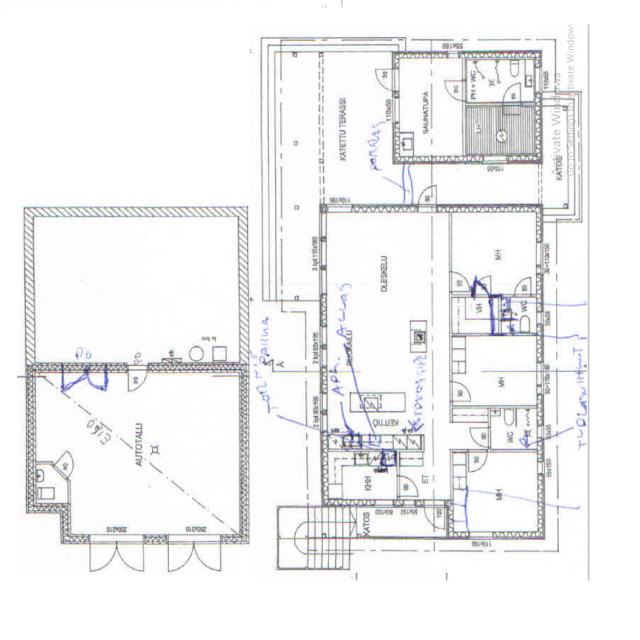door: (25, 222, 246, 370), (371, 66, 402, 94), (420, 502, 448, 530), (446, 378, 474, 405), (395, 472, 421, 500), (124, 365, 149, 394), (442, 77, 468, 103), (466, 424, 492, 449), (465, 448, 489, 475), (416, 182, 440, 208), (447, 270, 471, 295), (512, 276, 536, 298), (501, 81, 523, 104), (292, 530, 310, 554), (56, 450, 73, 474), (294, 520, 310, 540)
window: (308, 211, 331, 274), (391, 94, 403, 125)
zone: (320, 200, 432, 440), (27, 368, 141, 489), (321, 42, 397, 208), (448, 446, 546, 542), (449, 209, 541, 296), (394, 54, 466, 161), (449, 333, 544, 412), (246, 301, 325, 372), (463, 101, 540, 162), (322, 450, 399, 503), (465, 57, 537, 104), (358, 500, 445, 538), (86, 534, 150, 576), (487, 404, 543, 451), (164, 536, 226, 576), (492, 293, 545, 337), (27, 462, 70, 511), (450, 296, 492, 336)
